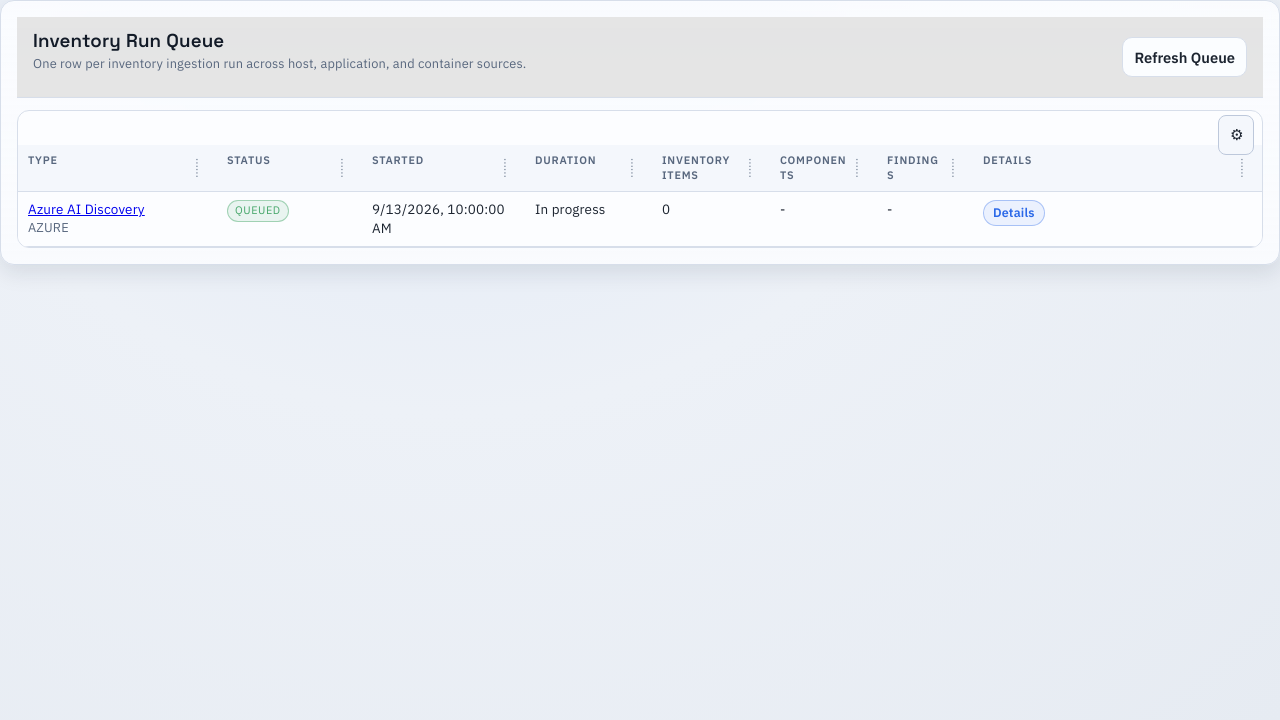
it: InventoryRunQueuePage › shows queued Azure AI discovery jobs before a worker creates the sync run
Expected: the text "Azure AI Discovery" is shown, [28,200,145,218]
Expected: the text "Queued" is shown, [227,200,289,222]
What coordinates should you click on to do the following:
click the heading "Details"
I would click on:
 (1014, 213)
Its box is [983,200,1045,226].
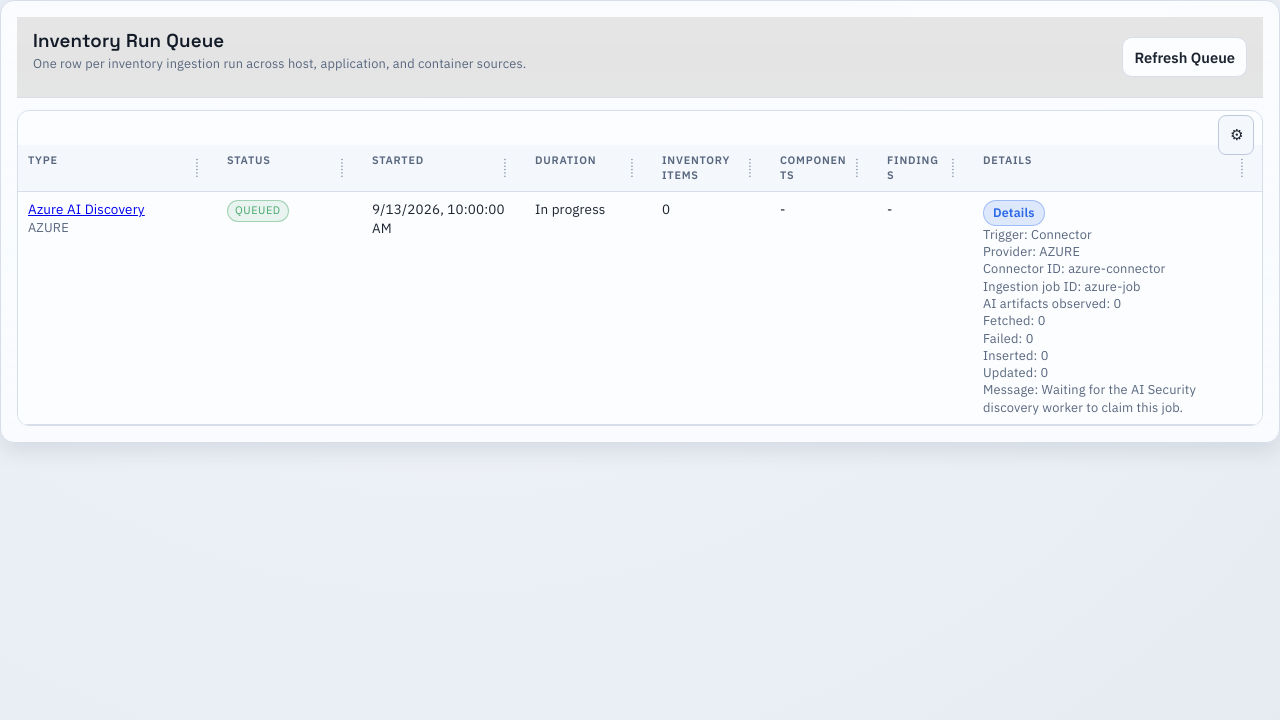
Result: the text "Waiting for the AI Security discovery worker to claim this job" is shown at [983,381,1196,416]
